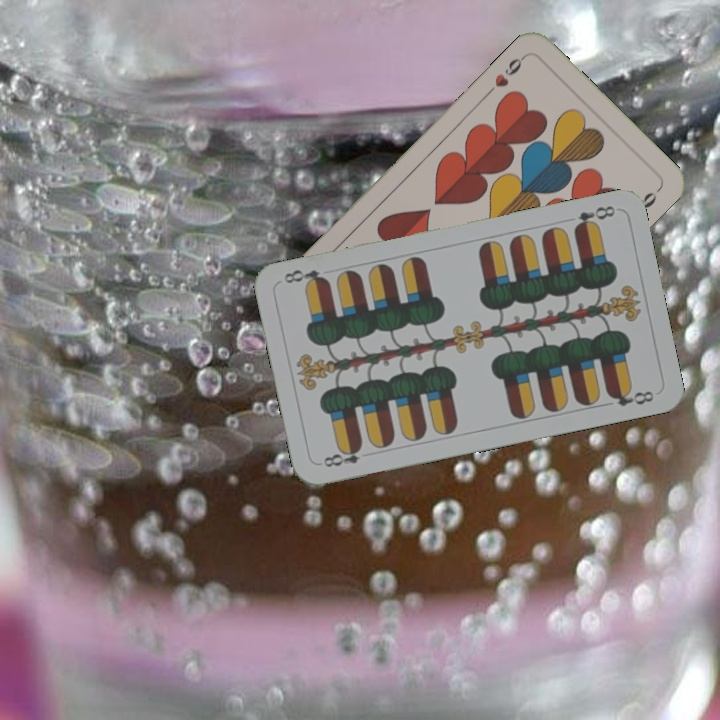E8: (569, 201, 618, 233), (319, 441, 365, 470)
H9: (483, 51, 529, 97)
